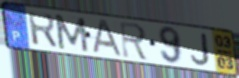9: (157, 26, 183, 67)
A: (90, 19, 124, 59)
J: (190, 32, 211, 66)
M: (53, 13, 91, 54)
R: (118, 20, 150, 62), (26, 11, 59, 50)
